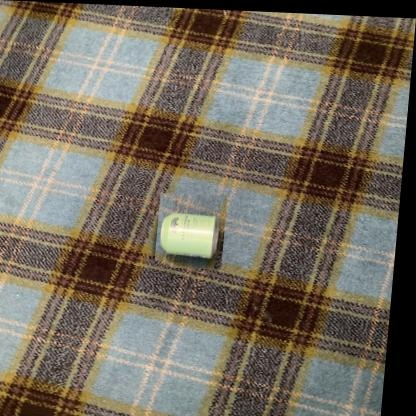trash: (160, 213, 217, 258)
